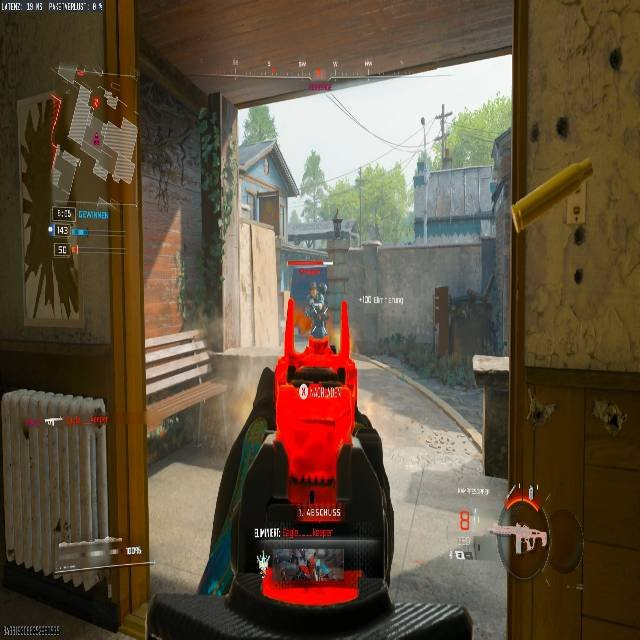player: (306, 283, 326, 337)
